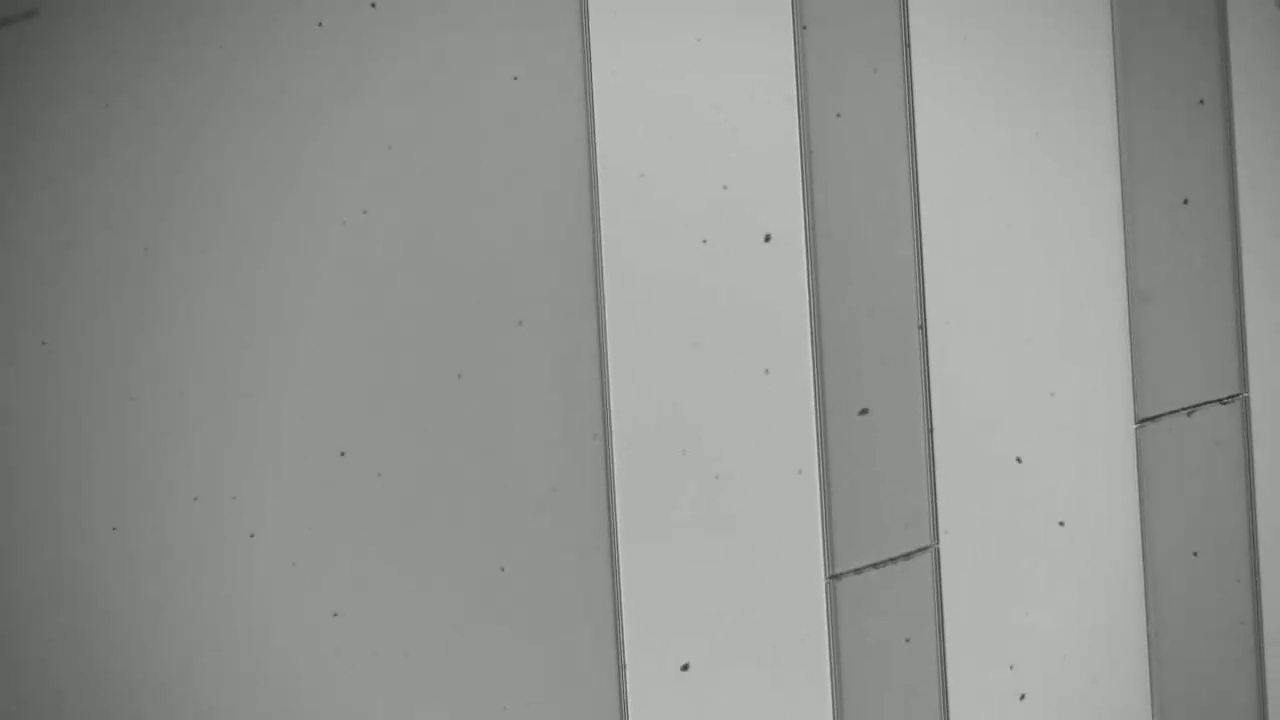scratch: (826, 546, 927, 587), (1139, 393, 1242, 423)
